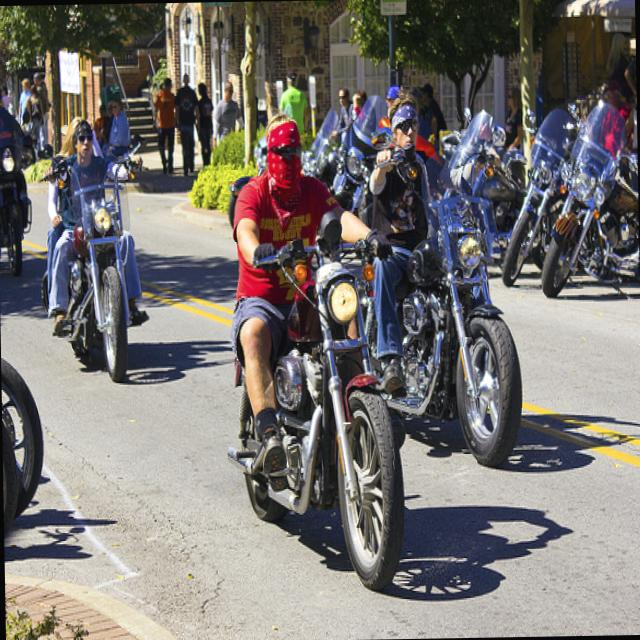Vehicle: (224, 211, 406, 593), (373, 141, 532, 466), (36, 133, 152, 384), (540, 100, 640, 302), (495, 98, 579, 284), (444, 102, 530, 236), (0, 339, 50, 522), (330, 94, 391, 220), (0, 106, 34, 278), (298, 108, 340, 194), (1, 388, 18, 558)
